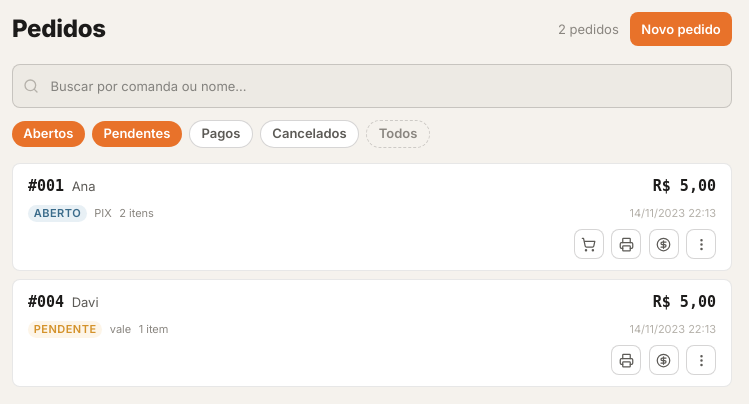
Scenario: OrdersPage › avisa quando nenhum status está marcado
Expected: the text "#001" is shown, [28,175,64,197]
Click the button "Abertos" at (48, 134), box [12,121,85,147]
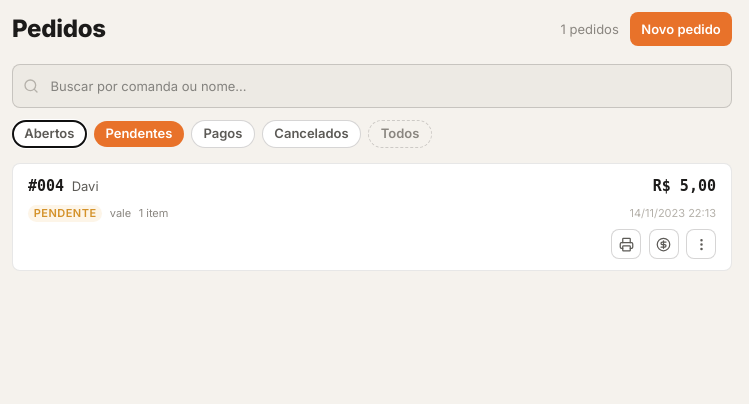
Click the button "Pendentes" at (139, 134), box [94,121,184,147]
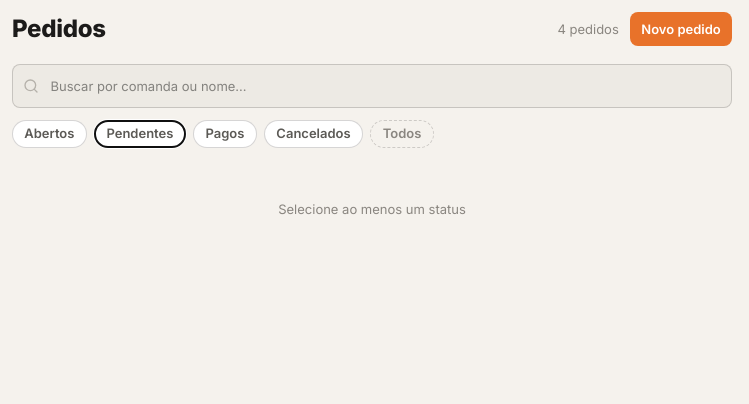
Now the text "Selecione ao menos um status" is shown, box [278,201,466,217]
